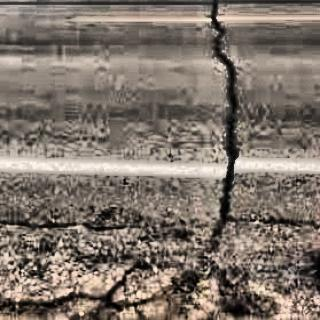crack: (208, 4, 260, 305), (30, 266, 166, 318)
